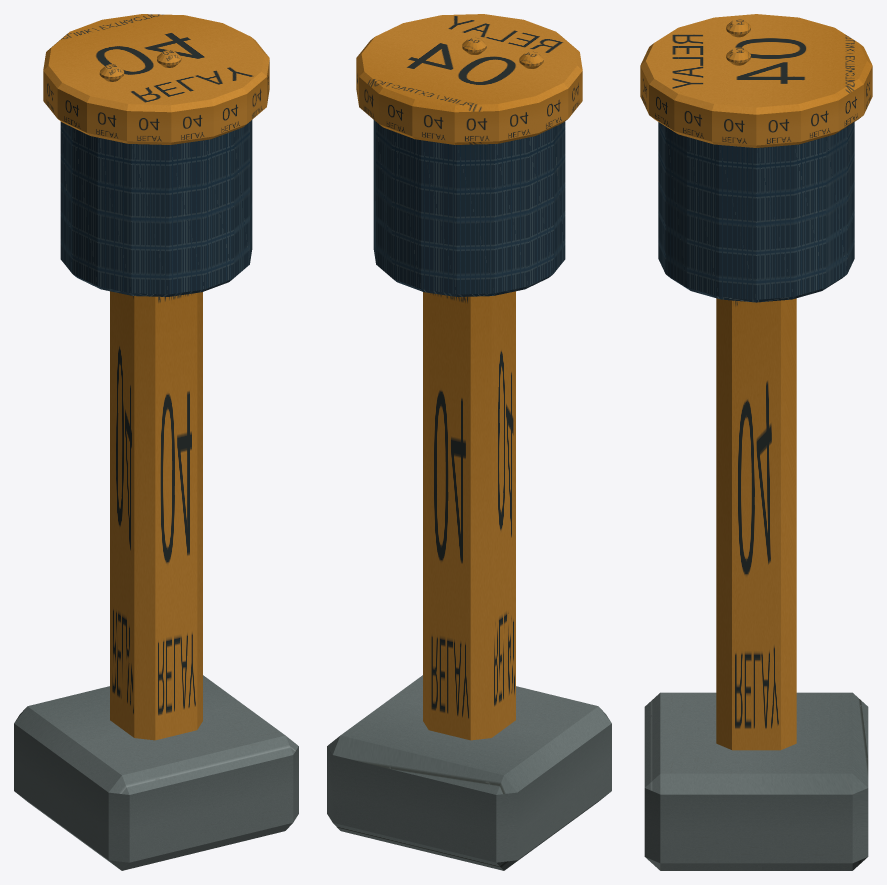
File: warning_beacon_LOD0.obj
3 views of the same model, side by side, from view 1: azimuth 30°, elevation 25°; view 2: azimuth 150°, elevation 25°; view 3: azimuth 270°, elevation 25° (orthographic).
Parts seen in each view (by area): view 1: L02_warning_beacon_LOD0; view 2: L02_warning_beacon_LOD0; view 3: L02_warning_beacon_LOD0.
Boxes of the visible parts, bbox=[...] form: L02_warning_beacon_LOD0: bbox=[14, 14, 298, 870]; L02_warning_beacon_LOD0: bbox=[327, 14, 611, 870]; L02_warning_beacon_LOD0: bbox=[640, 14, 872, 870].
Size of the model in its own units: 0.52 by 1.93 by 0.52.
Materials: 1 (1 with a texture image).
